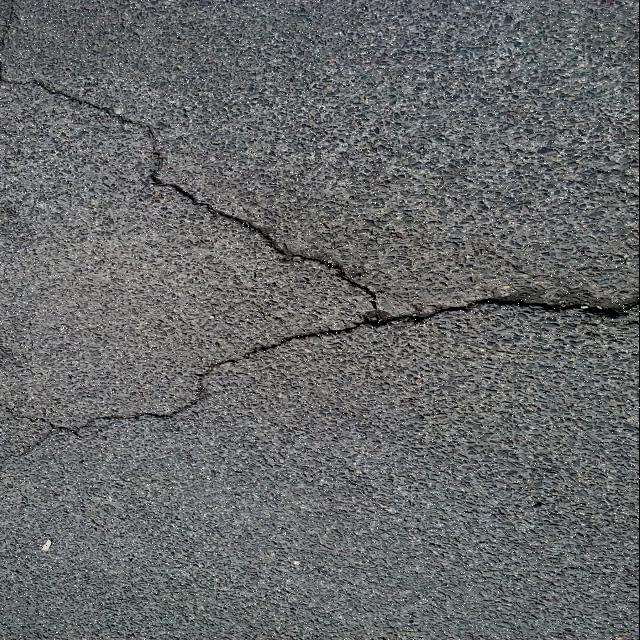Crack: (0, 0, 640, 460)
